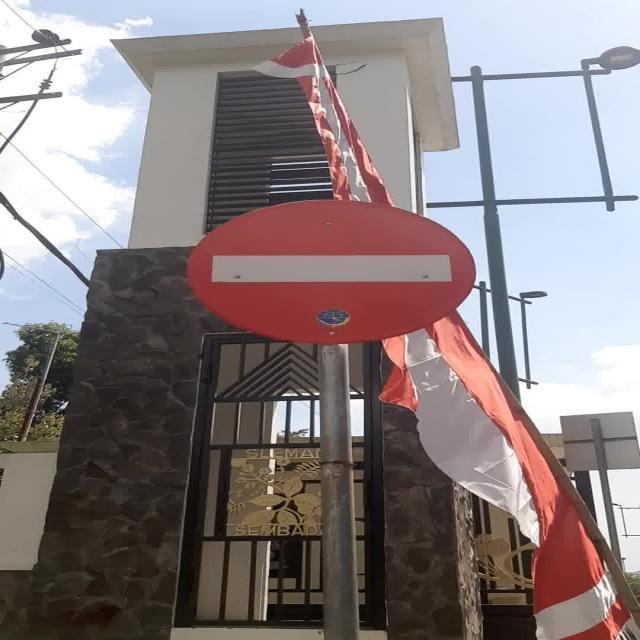Dilarang Masuk: (186, 198, 477, 344)
